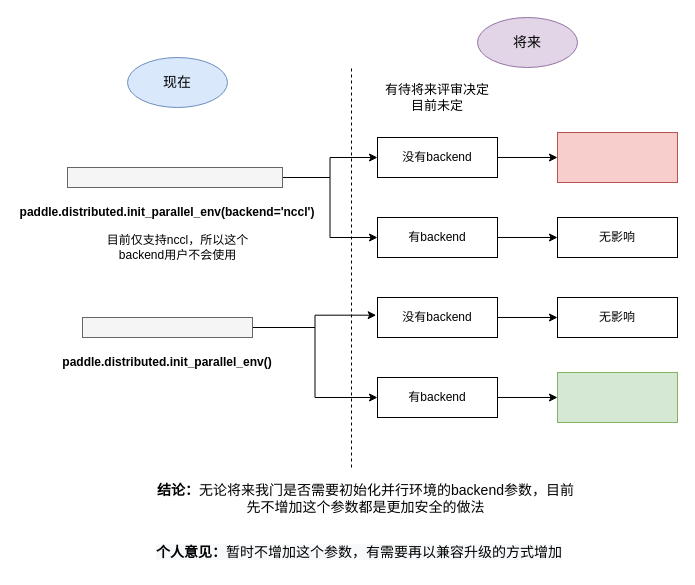
The diagram is 695 pixels wide and 585 high, and some of its shapes have lost their labels. Here are the shapes that lost their labels. From the top down, the centre of each, then its label:
At (x=174, y=177): "现在保留backend（可选）参数".
At (x=617, y=157): "去掉原有参数 不兼容升级".
At (x=167, y=327): "现在去掉backend参数".
At (x=617, y=397): "增加backend参数 兼容升级".
